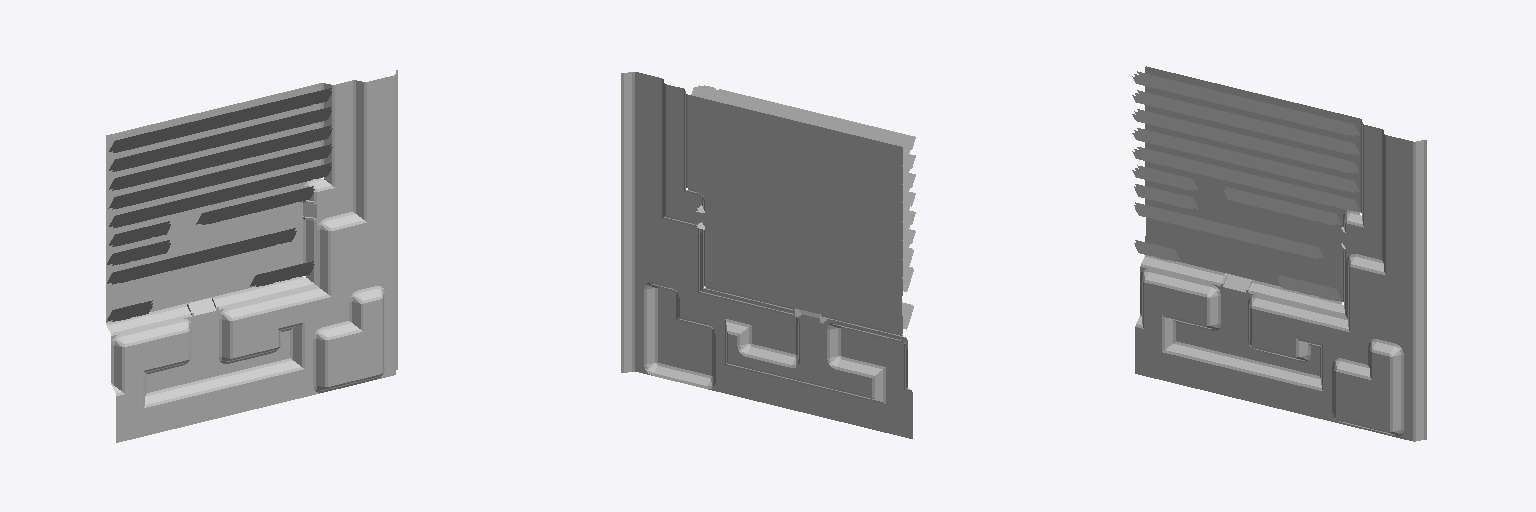
The model's file is Plat_full_06_11.obj.
The picture shows the model from 3 angles: view 1: azimuth 30°, elevation 25°; view 2: azimuth 150°, elevation 25°; view 3: azimuth 330°, elevation 25°; orthographic projection.
Parts seen in each view (by area): view 1: map; view 2: map; view 3: map.
Boxes of the visible parts, <box> form: map: <box>106,70,397,442</box>; map: <box>621,72,915,438</box>; map: <box>1132,66,1426,441</box>.
Size of the model in its own units: 32.25 by 32.12 by 3.